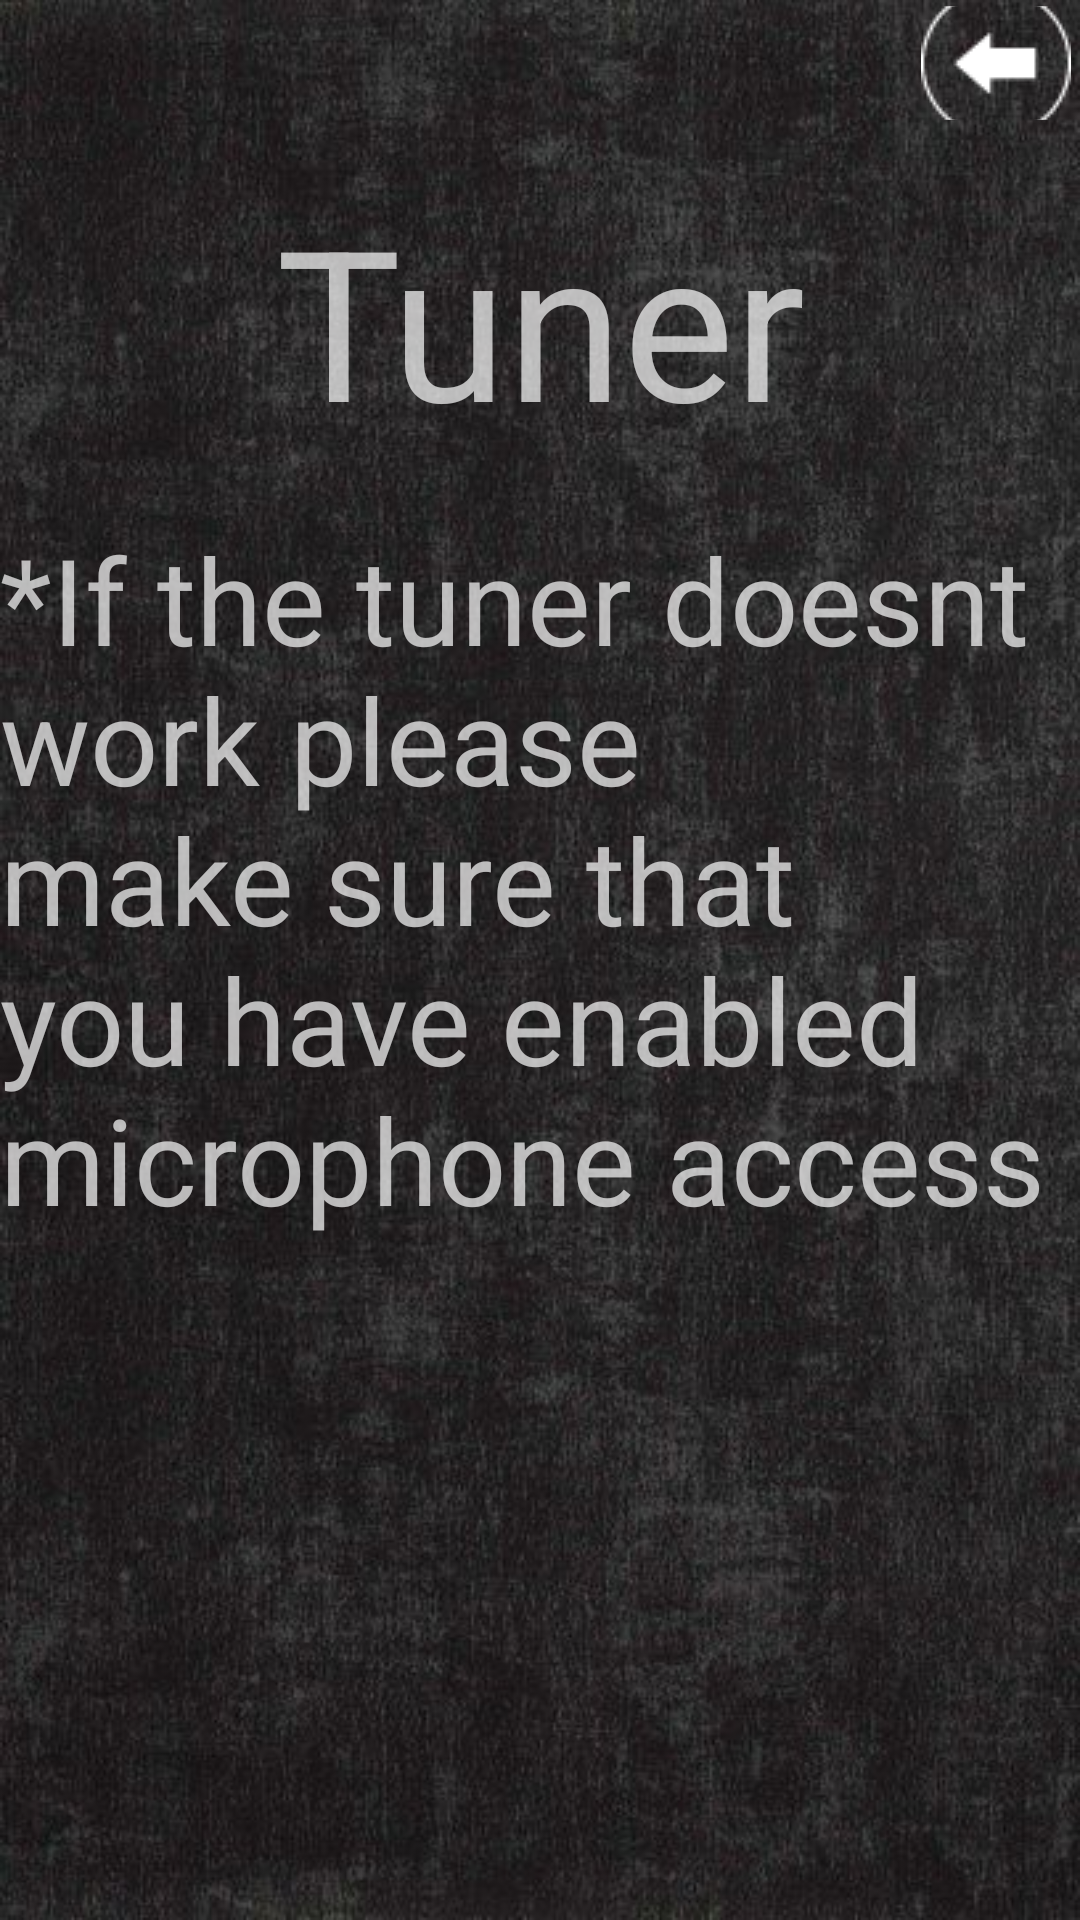

Where to tap for icons on this 1080*1920 app screen, as (x=x, y=y):
backiconwhite: (x=996, y=63)
